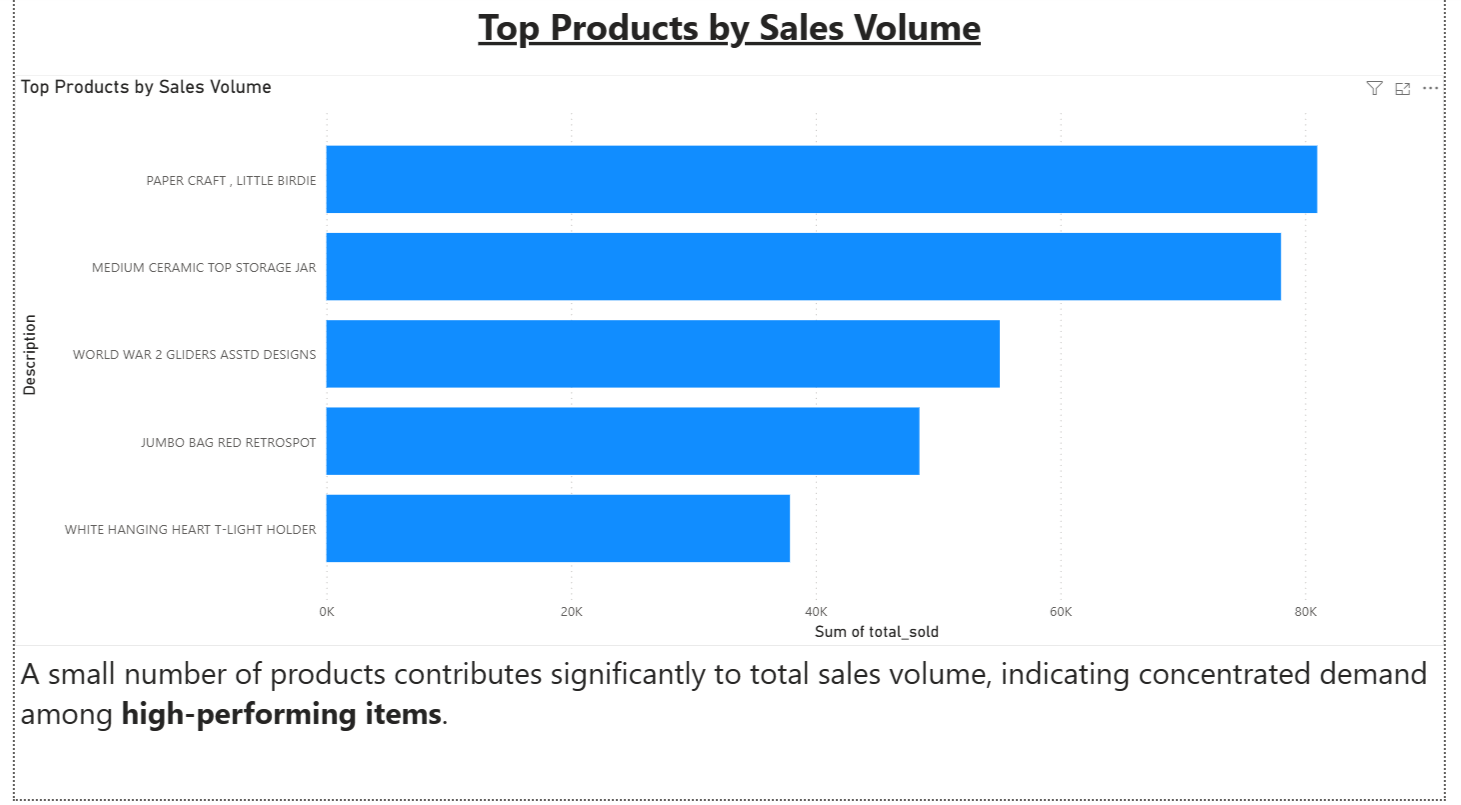

The page's visual inventory and layout, read from the dashboard file:
{"tool":"powerbi","page":{"name":"Page 4","canvas":[1280,720],"ordinal":3},"visuals":[{"type":"clusteredBarChart","title":"Top Products by Sales Volume","fields":{"Category":["Top Product.Description"],"Y":["Sum(Top Product.total_sold)"]},"box":[0,71.7,1280,511.7],"z":0},{"type":"textbox","box":[0,582.9,1280,137.1],"z":1},{"type":"textbox","box":[0,0,1280,71.7],"z":2}]}

Visuals, with their boxes in screenshot pixels (x1, y1, x2, y2), scaled from the page's 1280x720 canvas onto the 1461x805 screenshot:
"Top Products by Sales Volume" clusteredBarChart: box=[0, 80, 1460, 652]
textbox: box=[0, 652, 1460, 804]
textbox: box=[0, 0, 1460, 80]
